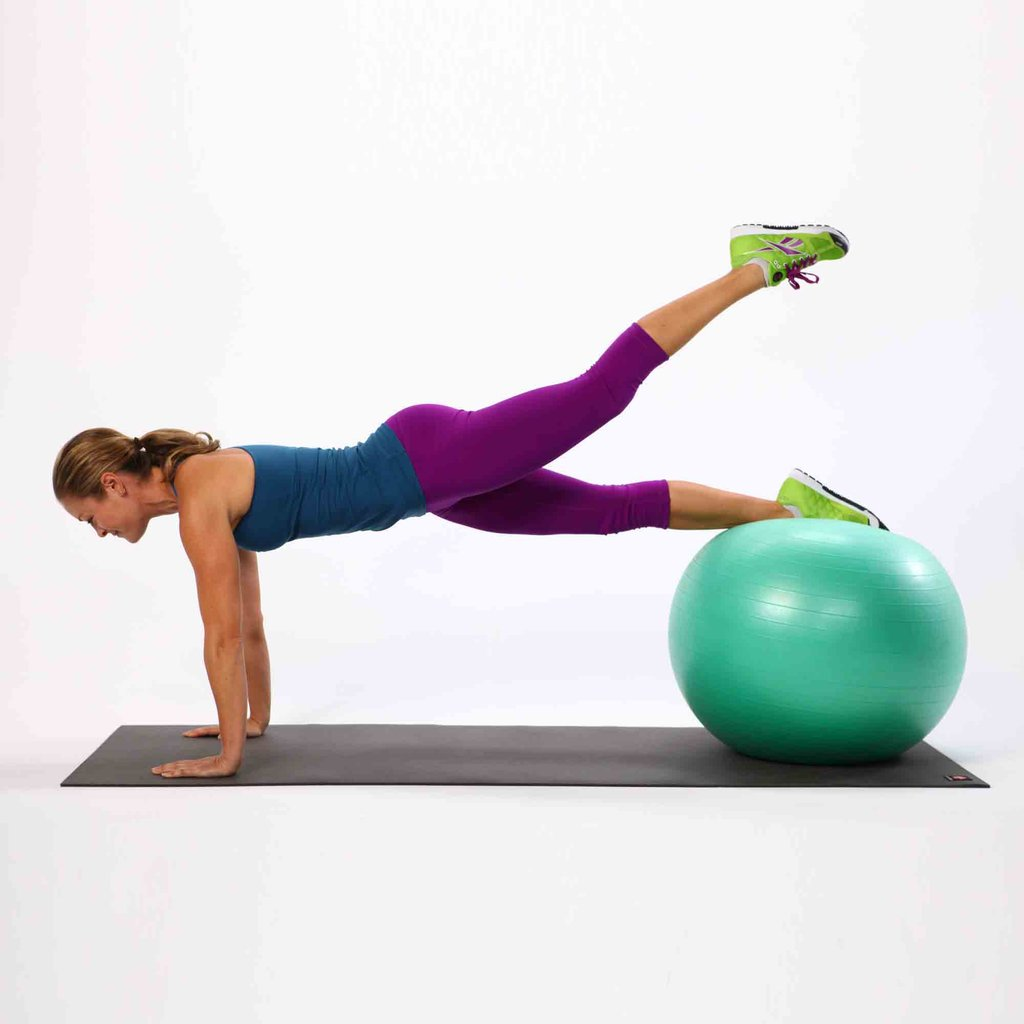yogaball: (664, 518, 977, 774)
